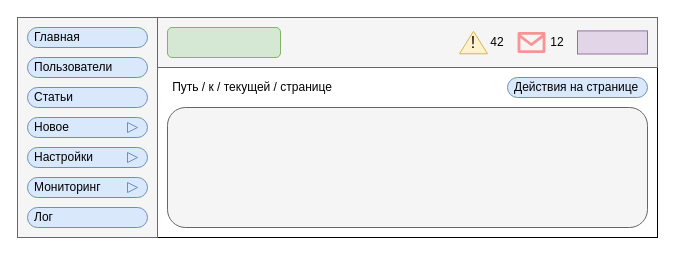
Some shapes in this 675 by 255 pixel diagram are drawn without their labels. The centre of each missing label's shape, as x and y in pixels:
Основной контент страницы: тексты, таблицы, графики, и т.д.: [407,167]
Профиль: [612,42]
Ссылка на главную страницу сайта: [223,42]
